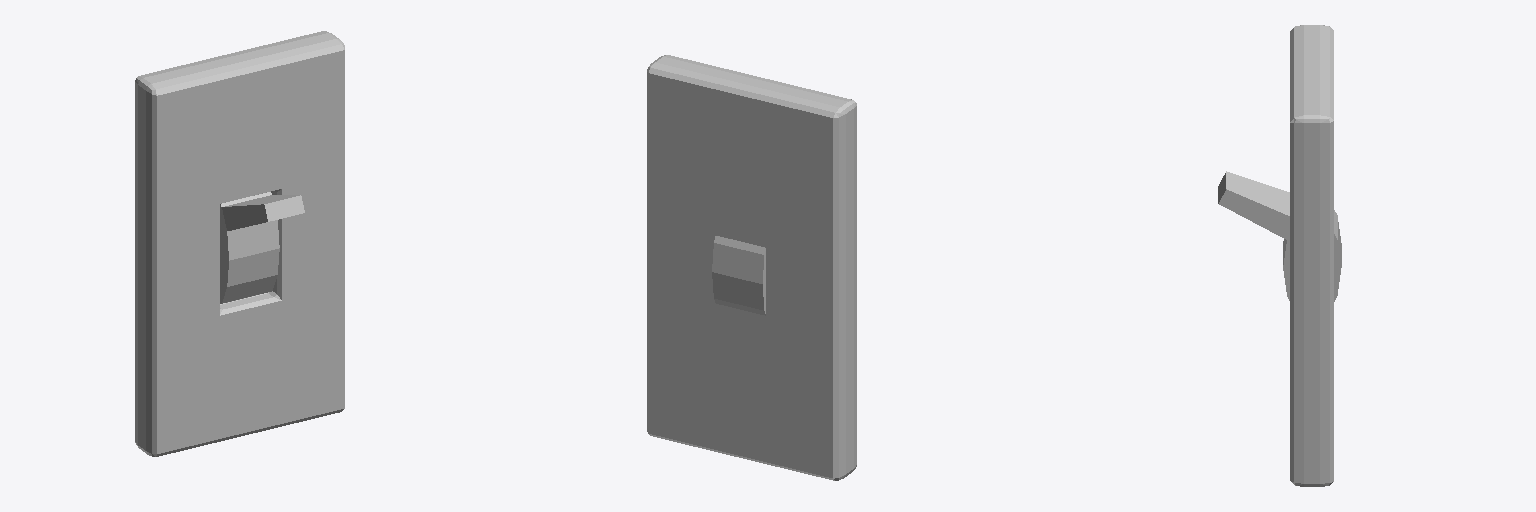
The model's file is switchOn.obj.
3 views of the same model, side by side, from view 1: azimuth 30°, elevation 25°; view 2: azimuth 150°, elevation 25°; view 3: azimuth 270°, elevation 25° (orthographic).
Parts seen in each view (by area): view 1: SwitchOn_Material.050; view 2: SwitchOn_Material.050; view 3: SwitchOn_Material.050.
Part boxes in pixels (x1,y1,x2,y2): SwitchOn_Material.050: (135, 31, 344, 456); SwitchOn_Material.050: (647, 55, 856, 480); SwitchOn_Material.050: (1218, 25, 1341, 486).
Size of the model in its own units: 0.8557 by 1.56 by 0.4666.